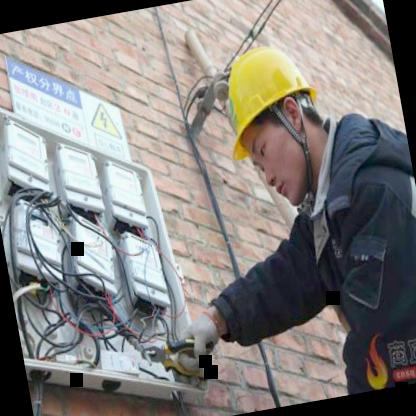helmet: (203, 22, 343, 214)
